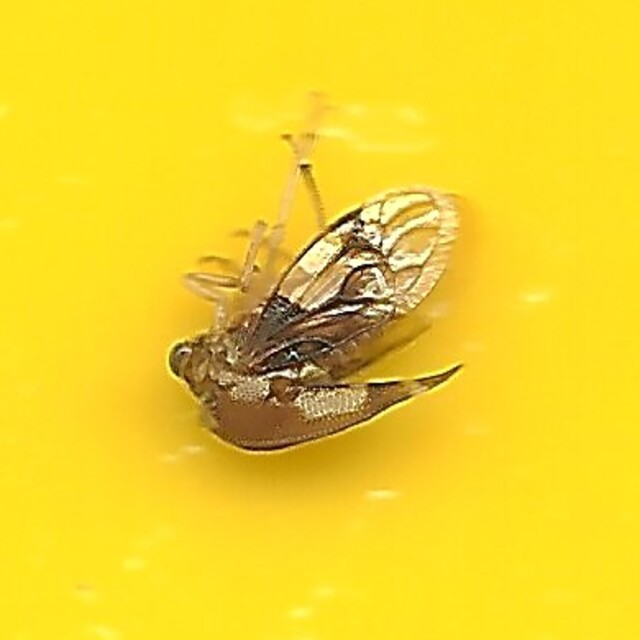Hemiptera: (164, 175, 476, 465)
